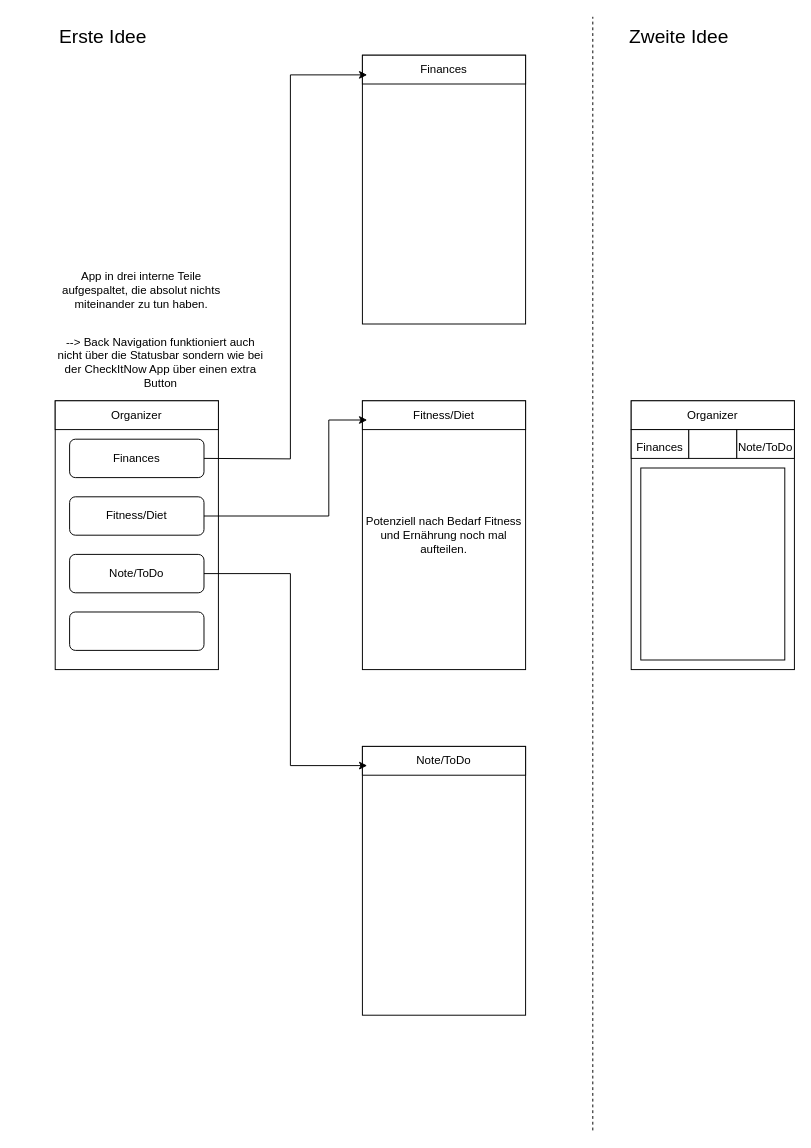
Image size: 811x1148. Some labels were removed from this diagram. Each missing label, with the centre of its shape:
"Fit./Diet" goes at (712,443).
"Import/Export Data" goes at (136,630).
"Picker entsprechende View" goes at (712,563).
